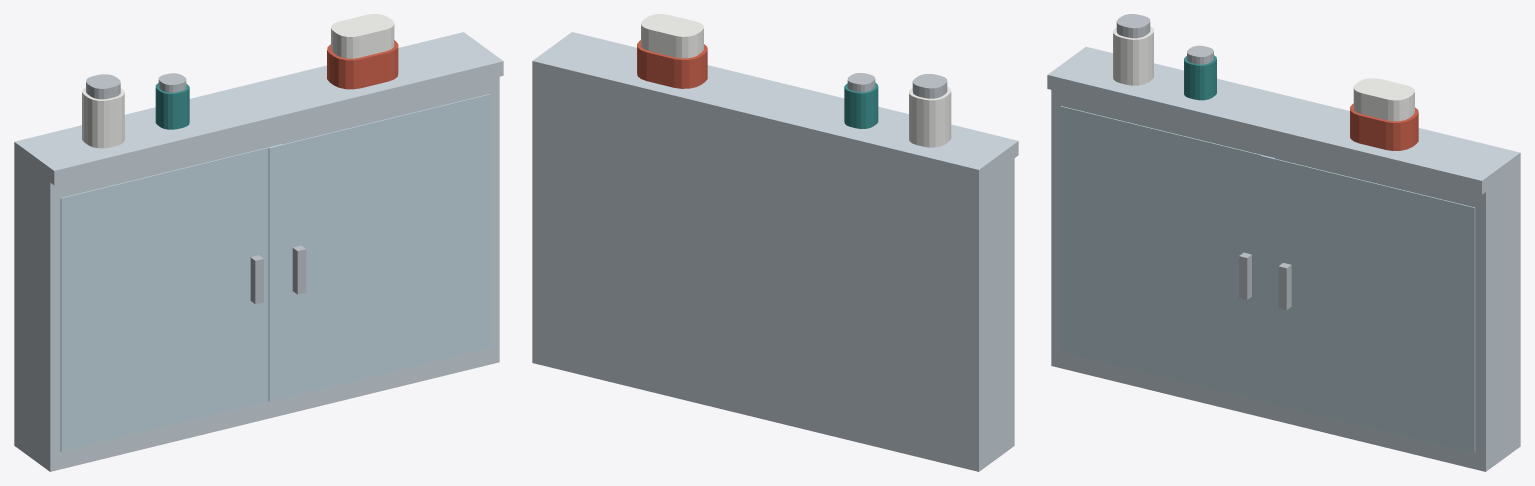
File: sliding_bathroom_cabinet.glb
The picture shows the model from 3 angles, left to right: view 1: azimuth 30°, elevation 25°; view 2: azimuth 150°, elevation 25°; view 3: azimuth 330°, elevation 25°; orthographic projection. The views are drawn at different scales.
Parts seen in each view (by area): view 1: sliding_bathroom_cabinet_Body; view 2: sliding_bathroom_cabinet_Body; view 3: sliding_bathroom_cabinet_Body.
Boxes of the visible parts, left/top/right/bottom form: sliding_bathroom_cabinet_Body: left=14, top=14, right=503, bottom=471; sliding_bathroom_cabinet_Body: left=532, top=14, right=1018, bottom=471; sliding_bathroom_cabinet_Body: left=1047, top=14, right=1520, bottom=471.
Size of the model in its own units: 1.3 by 1 by 0.211.
